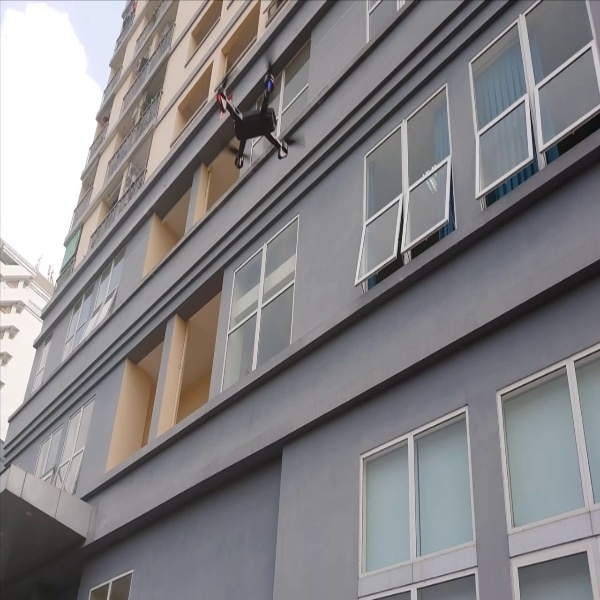drone: (197, 58, 309, 174)
